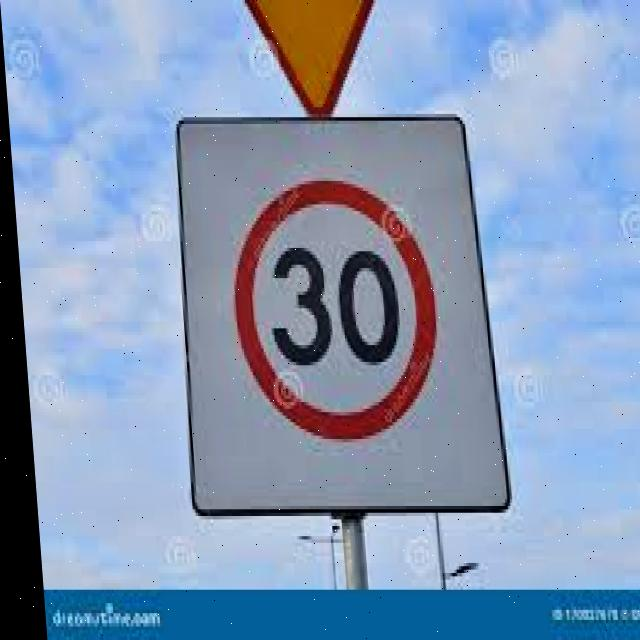Speed limit 30: (216, 174, 447, 447)
